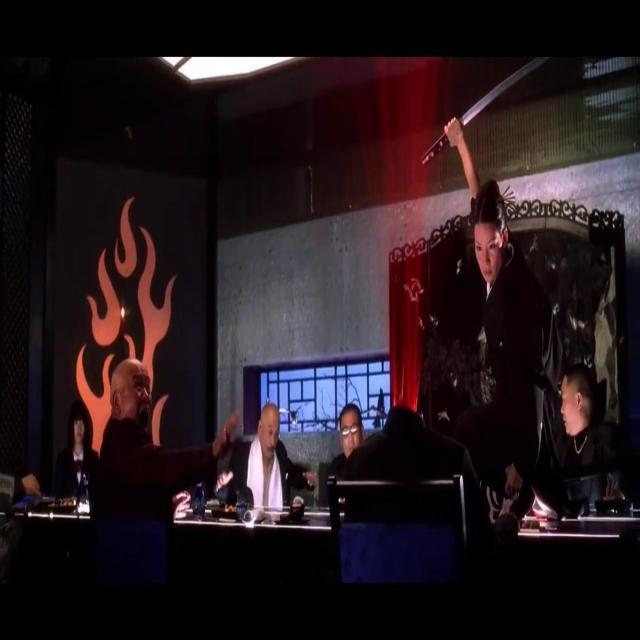flood: (357, 62, 452, 438)
